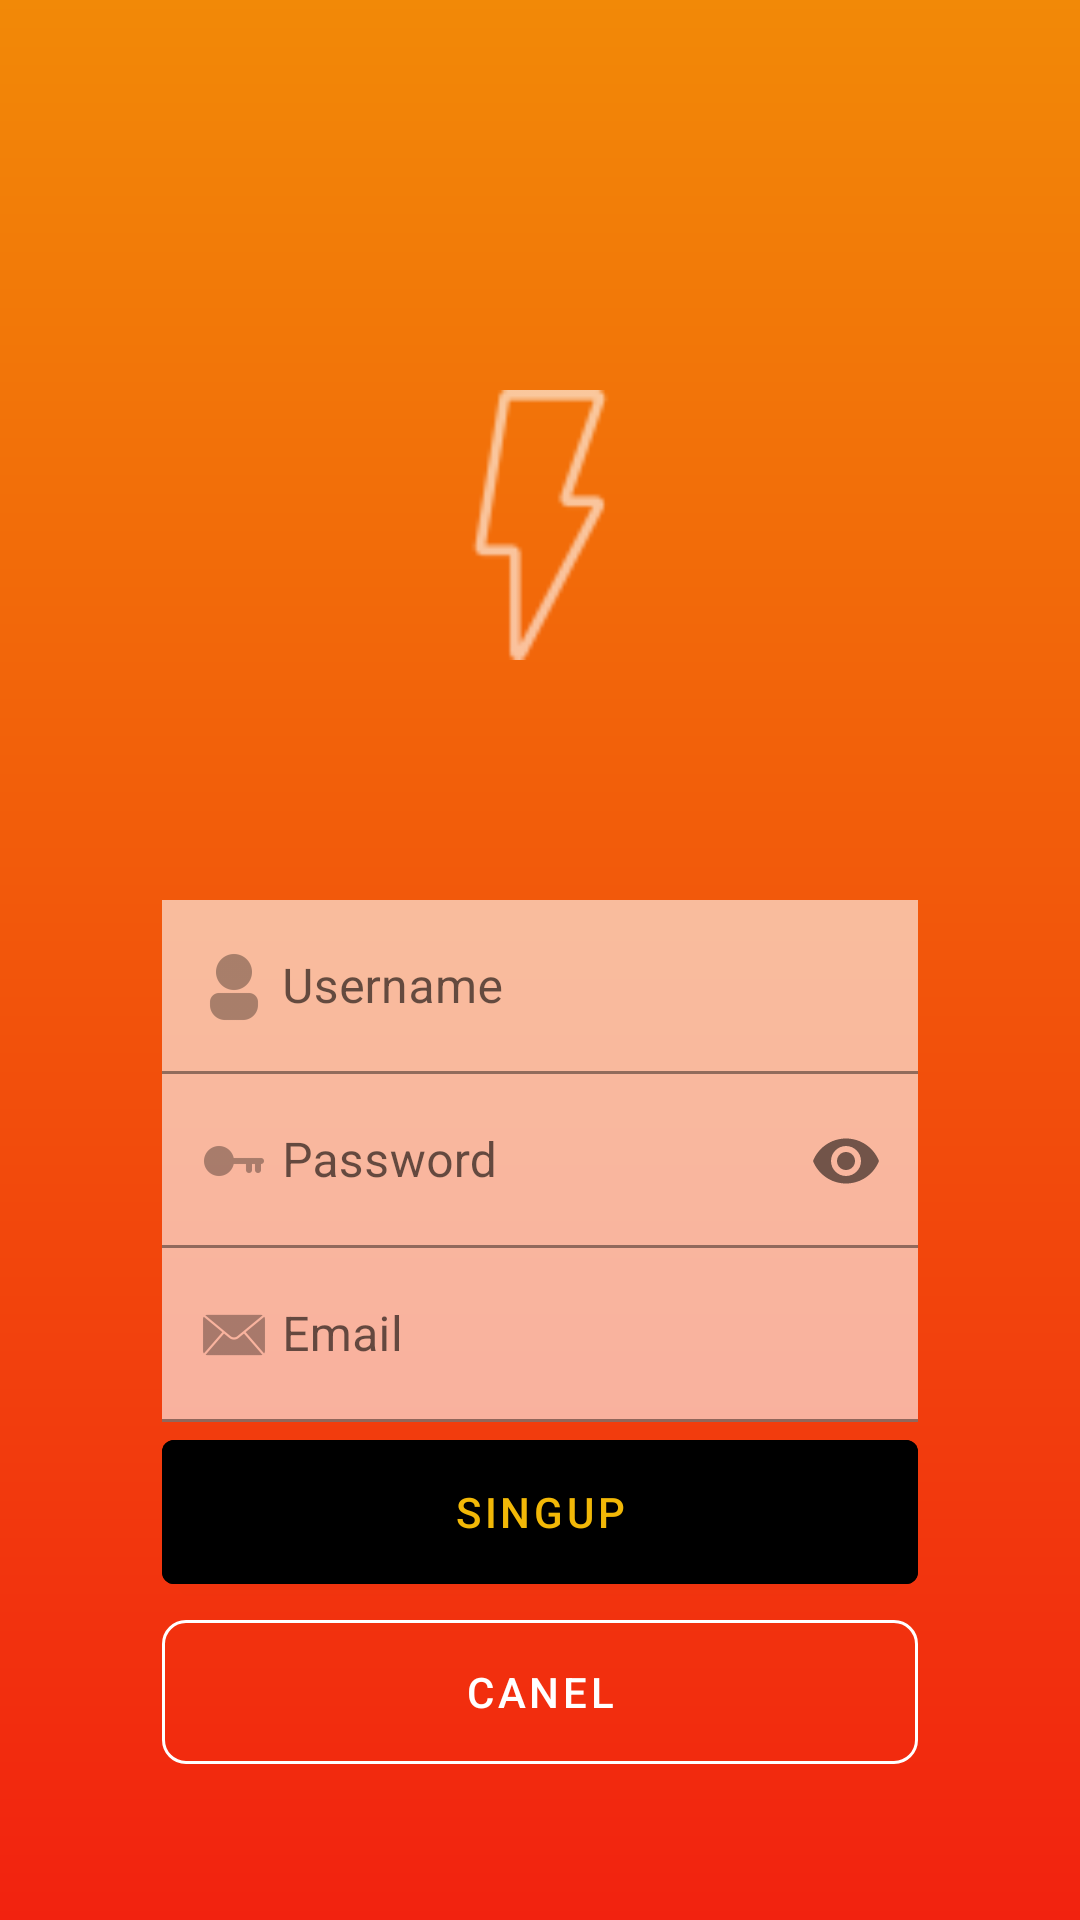

Where icons sit on this 1080px×1920px app screen, as Rect(x1, y1, x2, y2):
thunder: Rect(473, 390, 607, 660)
